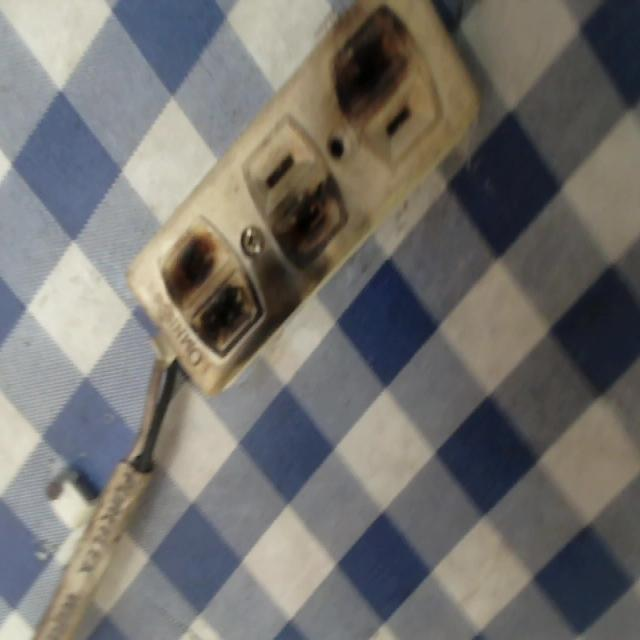-: (160, 215, 262, 368), (323, 3, 421, 120), (272, 181, 346, 276)
